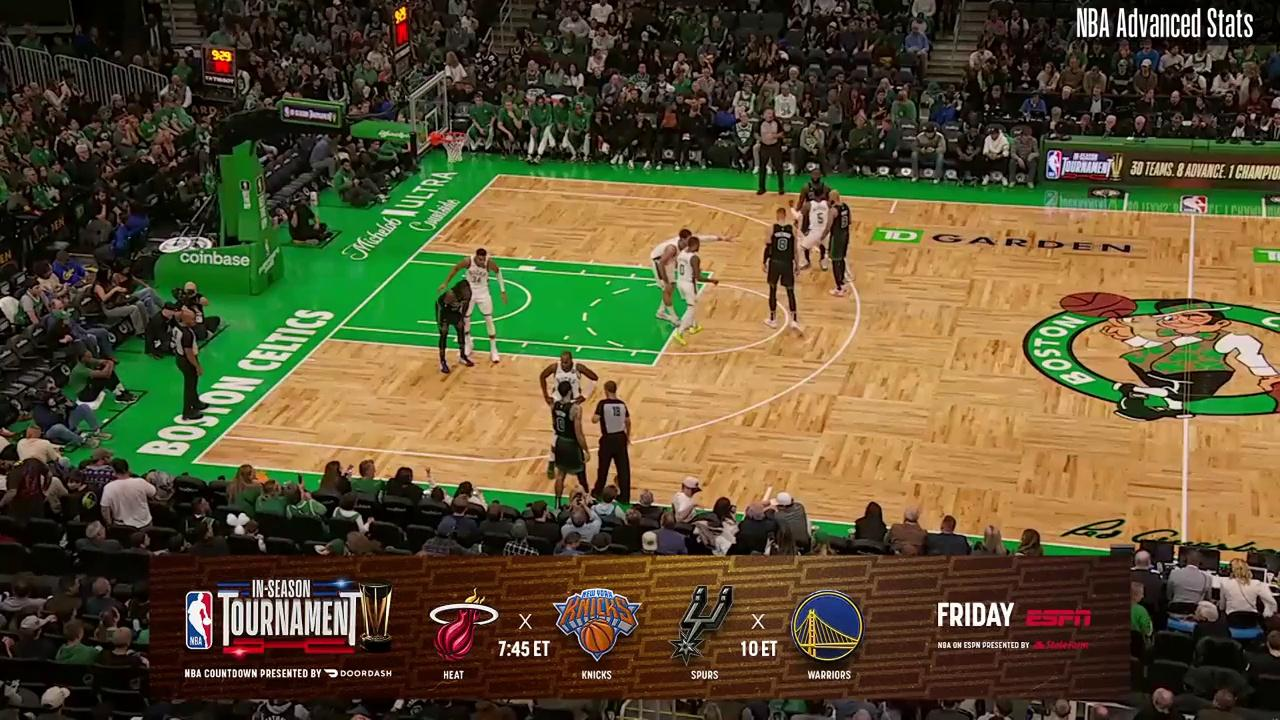3_dx: (482, 184, 489, 191)
3_sx: (217, 432, 227, 441)
b_dx: (495, 172, 502, 179)
b_sx: (188, 457, 199, 468)
free_adx: (708, 270, 716, 277)
free_asx: (650, 362, 657, 368)
free_bdx: (416, 247, 423, 255)
free_bsx: (321, 335, 332, 344)
half_dx: (1178, 204, 1203, 227)
mid_dx: (888, 210, 894, 216)
mid_sx: (767, 484, 774, 491)
referee: (170, 307, 211, 425), (595, 381, 634, 504), (753, 106, 788, 194)
team: (441, 248, 510, 363), (540, 349, 598, 471), (671, 235, 719, 343), (650, 226, 692, 324), (796, 188, 834, 271)
team1: (551, 382, 591, 505), (762, 208, 801, 329), (433, 279, 477, 372), (797, 170, 835, 248), (825, 191, 852, 297)
